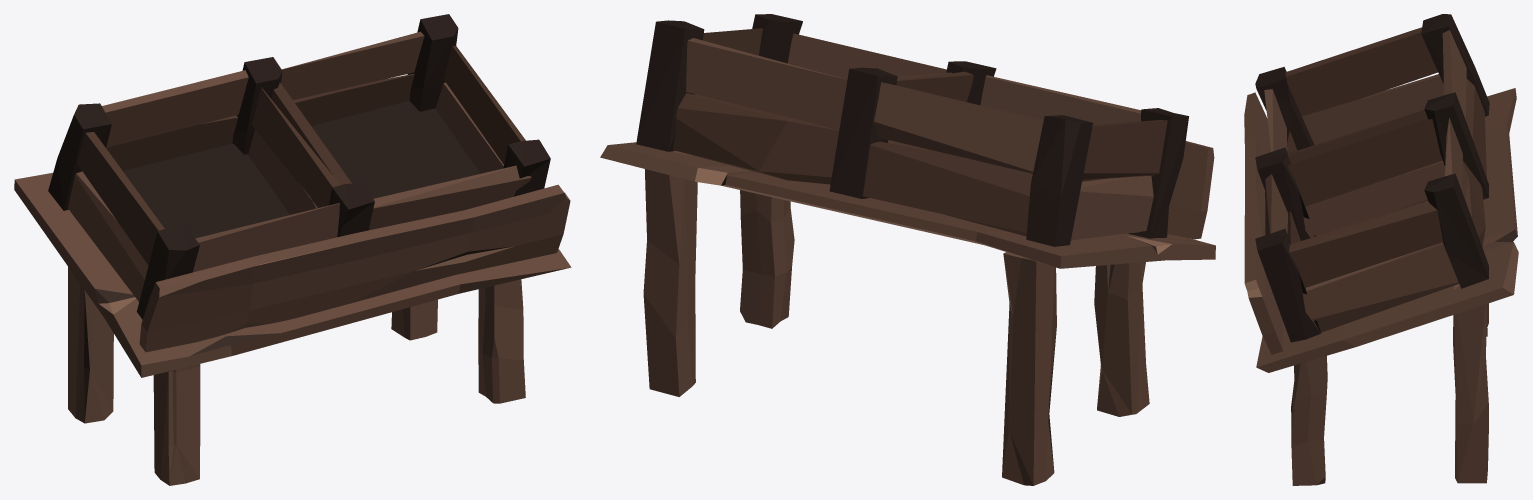
File: SellingGoods_01.glb
The picture shows the model from 3 angles, left to right: view 1: azimuth 30°, elevation 25°; view 2: azimuth 150°, elevation 25°; view 3: azimuth 270°, elevation 25°; orthographic projection. The views are drawn at different scales.
Visible parts, largest first — view 1: SellingGoods_01; view 2: SellingGoods_01; view 3: SellingGoods_01.
Boxes of the visible parts, x1,y1,x2,y2 form: SellingGoods_01: (14, 14, 571, 485); SellingGoods_01: (600, 14, 1215, 485); SellingGoods_01: (1244, 14, 1518, 485).
Size of what is drawn, in the model's own units: 1.77 by 1.28 by 1.04.
Materials: 1 (1 with a texture image).
